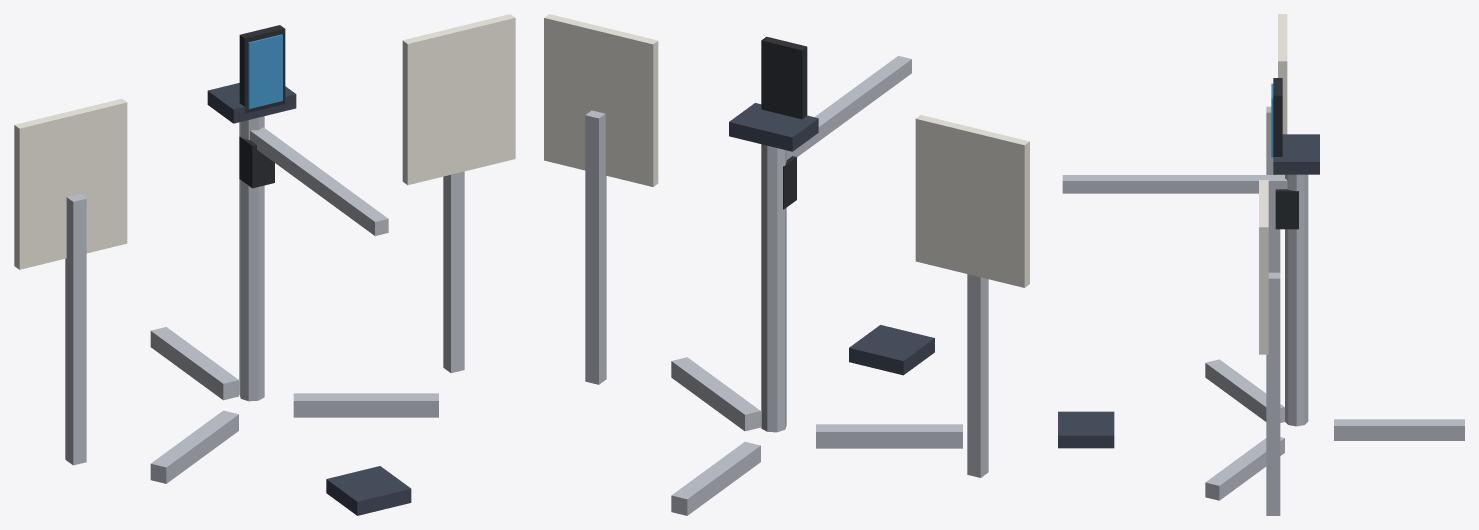
The model's file is station_buffer_3.glb.
The picture shows the model from 3 angles, left to right: view 1: azimuth 30°, elevation 25°; view 2: azimuth 150°, elevation 25°; view 3: azimuth 270°, elevation 25°; orthographic projection. The views are drawn at different scales.
Visible parts, largest first — view 1: leuchte_panel_1, leuchte_panel_0, stativ_saeule, leuchte_stab_0, leuchte_stab_1, galgen_arm, stativ_fuss_2, galgen_fuss, stativ_fuss_0, stativ_fuss_1, handy_schirm, stativ_kopf (+2 smaller); view 2: leuchte_panel_0, leuchte_panel_1, stativ_saeule, leuchte_stab_1, leuchte_stab_0, stativ_fuss_1, handy_koerper, galgen_fuss, galgen_arm, stativ_kopf, stativ_fuss_0, stativ_fuss_2 (+1 smaller); view 3: stativ_saeule, galgen_arm, leuchte_stab_1, stativ_fuss_0, galgen_fuss, stativ_fuss_1, stativ_fuss_2, leuchte_panel_1, stativ_kopf, leuchte_stab_0, leuchte_panel_0, galgen_kapsel (+1 smaller).
Boxes of the visible parts, <box> form: leuchte_panel_1: <box>402,14,515,185</box>; leuchte_panel_0: <box>14,98,127,269</box>; stativ_saeule: <box>239,116,264,401</box>; leuchte_stab_0: <box>65,194,86,465</box>; leuchte_stab_1: <box>443,171,464,373</box>; galgen_arm: <box>250,127,388,235</box>; stativ_fuss_2: <box>293,393,438,417</box>; galgen_fuss: <box>326,466,411,515</box>; stativ_fuss_0: <box>150,327,238,400</box>; stativ_fuss_1: <box>150,410,238,483</box>; handy_schirm: <box>248,34,282,108</box>; stativ_kopf: <box>207,83,296,123</box>; leuchte_panel_0: <box>915,115,1029,287</box>; leuchte_panel_1: <box>544,14,658,186</box>; stativ_saeule: <box>761,144,786,432</box>; leuchte_stab_1: <box>585,110,606,384</box>; leuchte_stab_0: <box>967,274,988,477</box>; stativ_fuss_1: <box>816,424,962,448</box>; handy_koerper: <box>761,36,807,119</box>; galgen_fuss: <box>849,325,934,375</box>; galgen_arm: <box>786,56,911,159</box>; stativ_kopf: <box>729,103,818,151</box>; stativ_fuss_0: <box>671,441,760,515</box>; stativ_fuss_2: <box>671,357,760,431</box>; stativ_saeule: <box>1285,174,1308,426</box>; galgen_arm: <box>1062,175,1287,193</box>; leuchte_stab_1: <box>1266,272,1280,515</box>; stativ_fuss_0: <box>1334,419,1464,440</box>; galgen_fuss: <box>1058,411,1114,448</box>; stativ_fuss_1: <box>1205,359,1284,422</box>; stativ_fuss_2: <box>1205,437,1284,500</box>; leuchte_panel_1: <box>1259,180,1268,354</box>; stativ_kopf: <box>1273,134,1319,174</box>; leuchte_stab_0: <box>1266,106,1280,272</box>; leuchte_panel_0: <box>1278,14,1287,174</box>; galgen_kapsel: <box>1275,189,1298,229</box>.
Bounding box in the file's own units: 1.08 × 0.8275 × 0.87.
